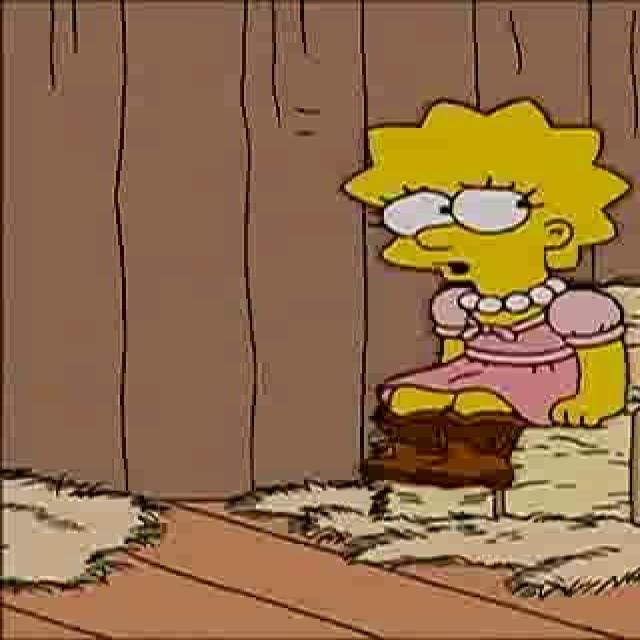Lisa Simpson: (336, 95, 632, 313)
